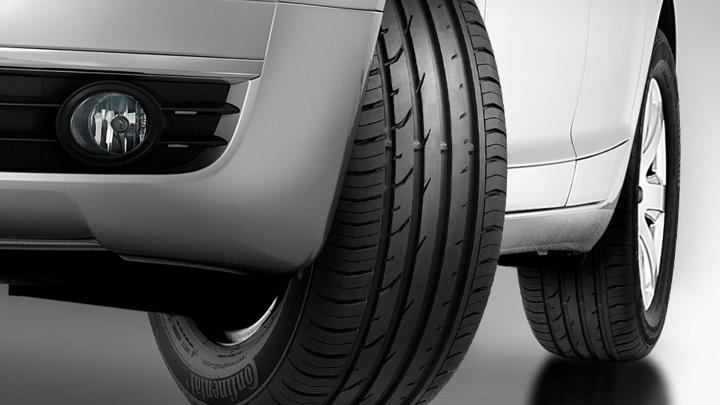tire: (124, 1, 505, 398), (518, 13, 682, 365)
